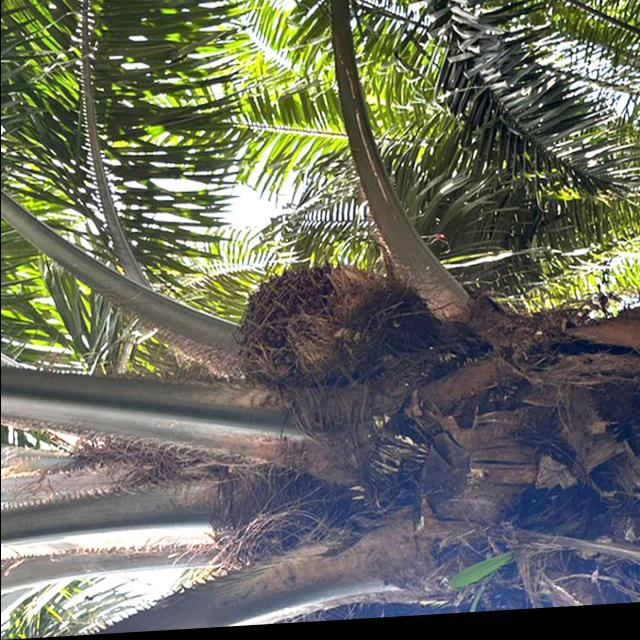almost: (234, 261, 403, 401)
